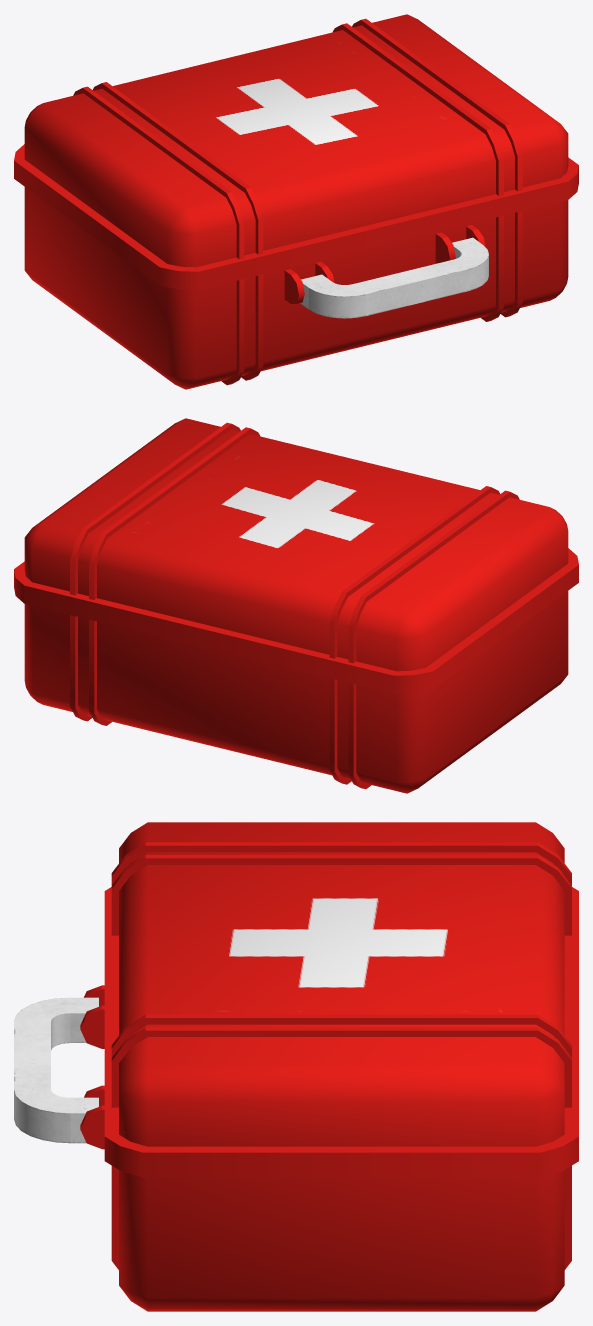
The model's file is botiquin.fbx.
The picture shows the model from 3 angles, top to bottom: view 1: azimuth 30°, elevation 25°; view 2: azimuth 150°, elevation 25°; view 3: azimuth 270°, elevation 25°; orthographic projection. The views are drawn at different scales.
Parts seen in each view (by area): view 1: Box001; view 2: Box001; view 3: Box001.
Boxes of the visible parts, x1,y1,x2,y2 form: Box001: (14, 14, 578, 389); Box001: (14, 418, 578, 793); Box001: (14, 822, 578, 1311).
Bounding box in the file's own units: 290 × 127 × 249.
1 material, 1 textured.
